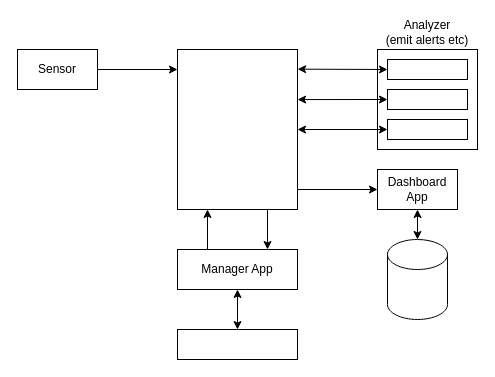
Some shapes in this 495 by 377 pixel diagram are drawn without their labels. The shapes that lost their labels are listed below. From the top down, each one's box as (x1, y1, x2, y2) in pixels, then its label:
(176, 48, 298, 210): Kafka
(176, 328, 298, 360): Mobile
